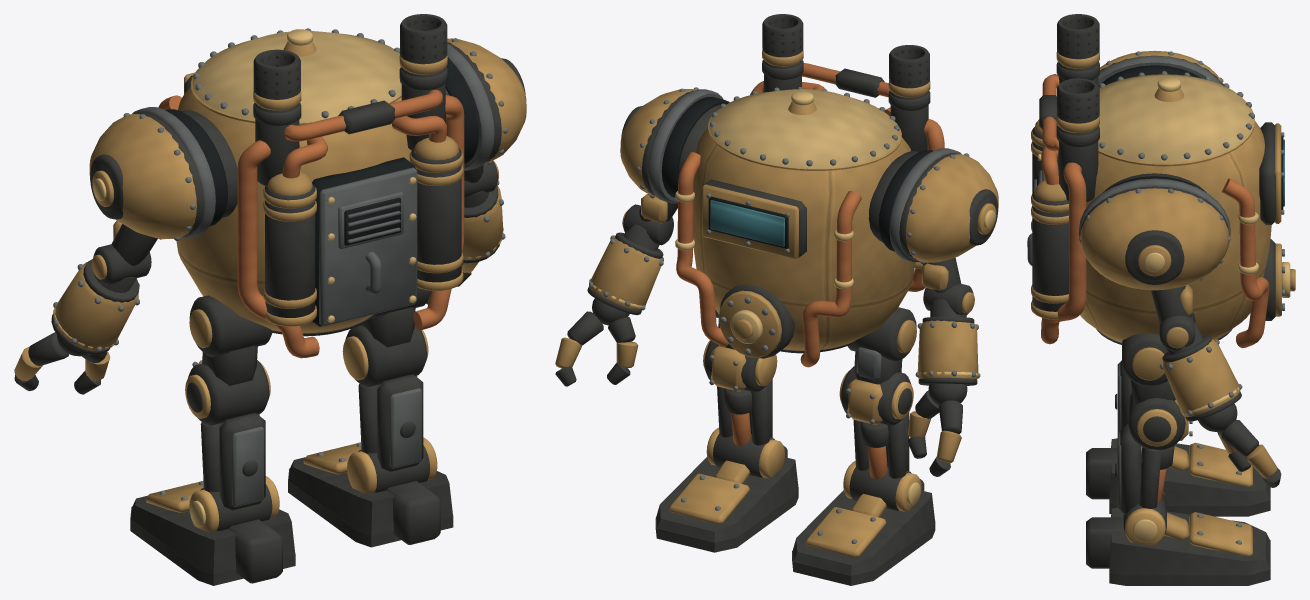
3 views of the same model, side by side, from view 1: azimuth 30°, elevation 25°; view 2: azimuth 150°, elevation 25°; view 3: azimuth 270°, elevation 25° (orthographic). The views are drawn at different scales.
Size of the model in its own units: 3.65 by 4 by 2.04.
1 material, 1 textured.
